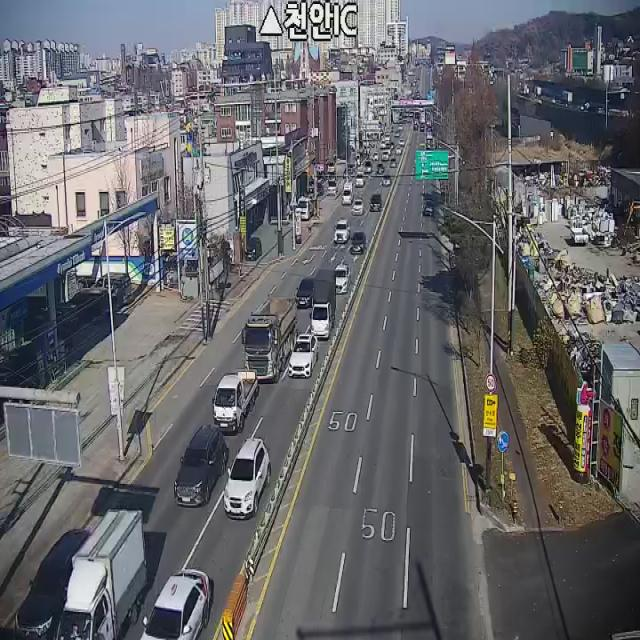Car: (14, 528, 90, 640), (139, 568, 212, 640), (174, 423, 228, 507), (223, 436, 272, 520), (287, 333, 319, 379), (96, 271, 133, 306), (295, 278, 314, 309), (335, 262, 351, 294), (334, 218, 351, 244), (245, 236, 263, 260), (299, 196, 315, 220), (350, 230, 366, 254), (342, 183, 354, 206), (370, 194, 382, 211), (352, 198, 364, 215), (328, 179, 337, 196), (424, 203, 434, 217), (356, 172, 365, 187), (382, 174, 392, 186)
Truck: (54, 508, 148, 640), (241, 293, 298, 384), (212, 370, 260, 434), (308, 268, 336, 340), (570, 218, 589, 246)
